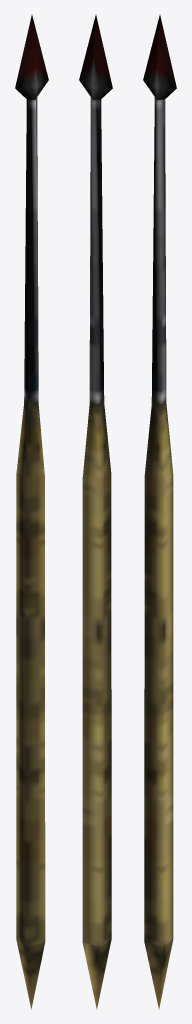
The model's file is verutum.dae.
3 renders of one model, left to right at view 1: azimuth 30°, elevation 25°; view 2: azimuth 150°, elevation 25°; view 3: azimuth 330°, elevation 25°, orthographic.
Parts seen in each view (by area): view 1: pillum010; view 2: pillum010; view 3: pillum010.
Boxes of the visible parts, x1,y1,x2,y2 form: pillum010: (15, 15, 48, 1009); pillum010: (79, 15, 112, 1009); pillum010: (143, 15, 176, 1009).
Size of the model in its own units: 0.115 by 0.0624 by 3.23.
